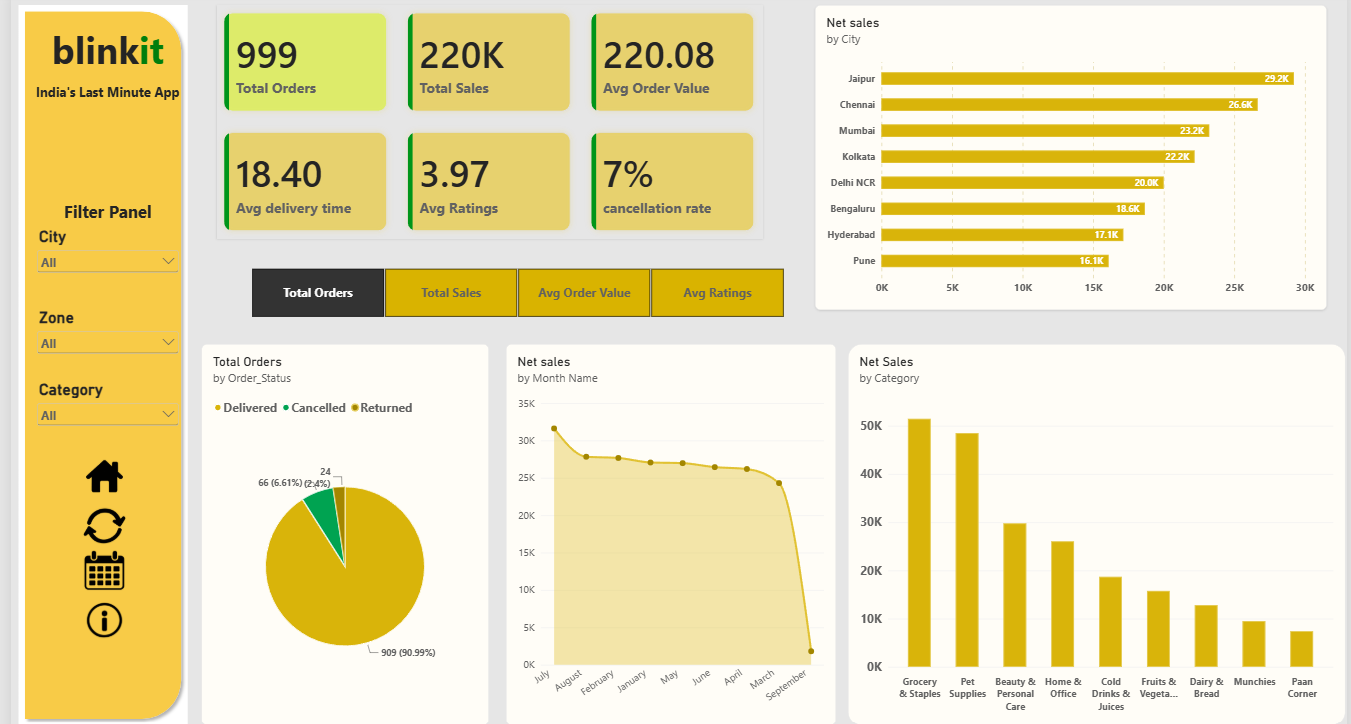

The page's visual inventory and layout, read from the dashboard file:
{"tool":"powerbi","page":{"name":"Page 1","canvas":[1920,1080],"ordinal":0},"visuals":[{"type":"shape","box":[11.4,18.2,243,1035.7],"z":0},{"type":"textbox","box":[32.4,45.3,213.6,84.1],"z":1000},{"type":"textbox","box":[32.4,129.4,213.6,62.6],"z":2000},{"type":"cardVisual","fields":{"Data":["Sheet1.Total Orders","Sheet1.Total Sales","Sheet1.Avg Order Value","Sheet1.Avg delivery time","Sheet1.Avg Ratings","Sheet1.cancellation rate"]},"box":[295.3,18.2,785.9,336.2],"z":3000},{"type":"slicer","fields":{"Values":["Sheet1.City"]},"box":[31.8,336.2,213.5,95.4],"z":4000},{"type":"slicer","fields":{"Values":["Sheet1.Zone"]},"box":[31.8,452,213.5,104.5],"z":5000},{"type":"slicer","fields":{"Values":["Sheet1.Category"]},"box":[31.8,556.5,213.5,106.8],"z":6000},{"type":"lineClusteredColumnComboChart","fields":{"Category":["Sheet1.Category"],"Y":["Sum(Sheet1.Net_Sales)"]},"box":[1203.8,504.2,715.5,549.7],"z":7000},{"type":"barChart","fields":{"Category":["Sheet1.City"],"Y":["Sum(Sheet1.Net_Sales (bins))"]},"box":[1156.1,18.2,735.9,438.4],"z":8000},{"type":"pieChart","fields":{"Category":["Sheet1.Order_Status"],"Y":["Sheet1.Total Orders"]},"box":[274.8,504.2,413.4,549.7],"z":9000},{"type":"areaChart","fields":{"Category":["Sheet1.Month Name"],"Y":["Sum(Sheet1.Net_Sales)"]},"box":[710.9,504.2,474.7,549.7],"z":10000},{"type":"slicer","fields":{"Values":["Parameter.Parameter"]},"box":[324.8,395.2,804,72.7],"z":11000},{"type":"textbox","box":[32.4,297.7,213.6,38.8],"z":12000},{"type":"image","box":[75,663.2,118.1,63.6],"z":12001},{"type":"image","box":[75,733.6,118.1,63.6],"z":12002},{"type":"image","box":[99.9,797.2,70.4,63.6],"z":12003},{"type":"image","box":[75,876.7,118.1,52.2],"z":12004}]}

Visuals, with their boxes on the page's 1920x1080 design canvas (x1, y1, x2, y2). These are canvas units, not pixel positions in the 1351x724 screenshot, which may show the page scaled, cropped or inside an application window:
shape: rect(11, 18, 254, 1054)
textbox: rect(32, 45, 246, 129)
textbox: rect(32, 129, 246, 192)
cardVisual - Sheet1.Total Orders x Sheet1.Total Sales: rect(295, 18, 1081, 354)
slicer - Sheet1.City: rect(32, 336, 245, 432)
slicer - Sheet1.Zone: rect(32, 452, 245, 556)
slicer - Sheet1.Category: rect(32, 556, 245, 663)
lineClusteredColumnComboChart - Sheet1.Category x Sum(Sheet1.Net_Sales): rect(1204, 504, 1919, 1054)
barChart - Sheet1.City x Sum(Sheet1.Net_Sales (bins)): rect(1156, 18, 1892, 457)
pieChart - Sheet1.Order_Status x Sheet1.Total Orders: rect(275, 504, 688, 1054)
areaChart - Sheet1.Month Name x Sum(Sheet1.Net_Sales): rect(711, 504, 1186, 1054)
slicer - Parameter.Parameter: rect(325, 395, 1129, 468)
textbox: rect(32, 298, 246, 336)
image: rect(75, 663, 193, 727)
image: rect(75, 734, 193, 797)
image: rect(100, 797, 170, 861)
image: rect(75, 877, 193, 929)
